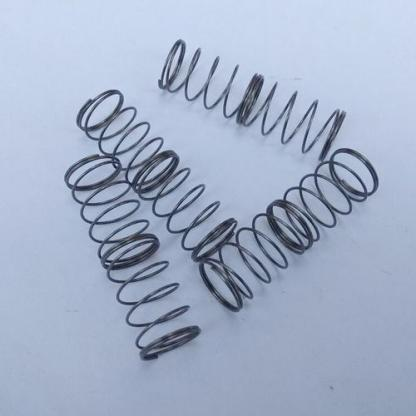FOD: (196, 144, 381, 316), (72, 82, 240, 266), (62, 150, 204, 366), (156, 36, 349, 163)
